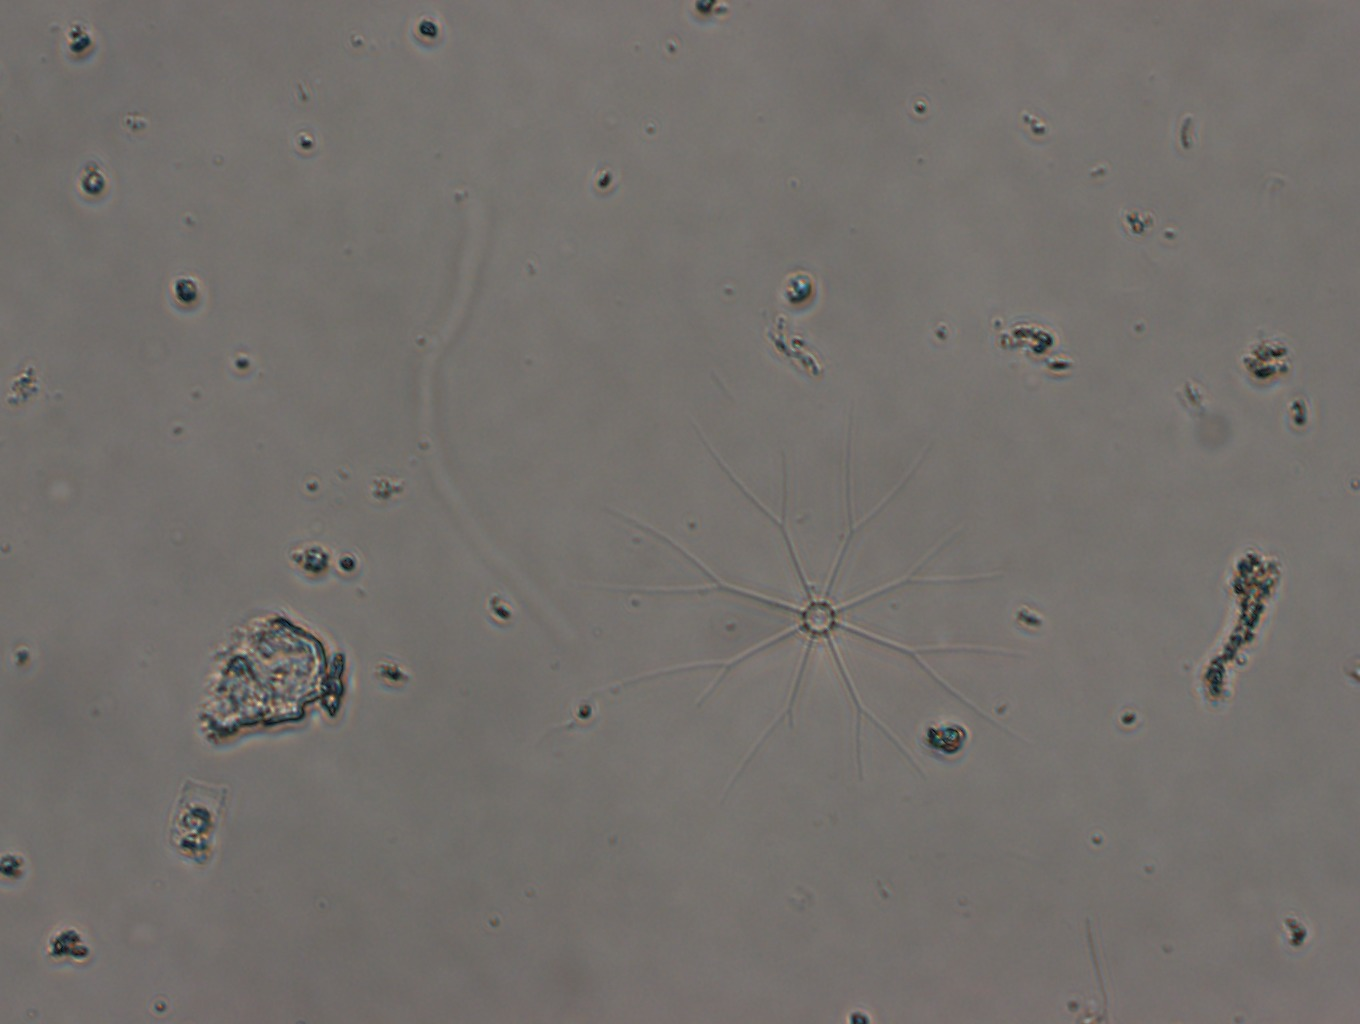bacteriastrum: (591, 406, 1027, 815)
